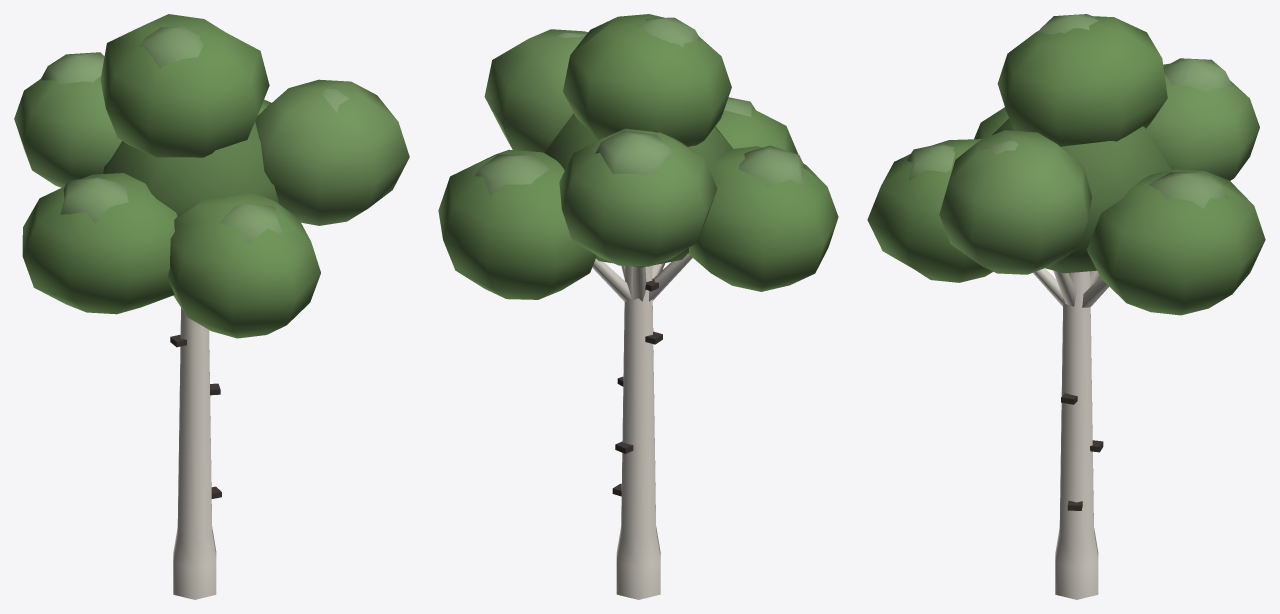
Rendered from birch.glb.
3 views of the same model, side by side, from view 1: azimuth 30°, elevation 25°; view 2: azimuth 150°, elevation 25°; view 3: azimuth 270°, elevation 25° (orthographic).
Parts seen in each view (by area): view 1: body; view 2: body; view 3: body.
Part boxes in pixels (bbox=[...]): body: bbox=[14, 14, 409, 599]; body: bbox=[438, 14, 838, 599]; body: bbox=[867, 14, 1265, 599].
Size of the model in its own units: 3.43 by 5.34 by 3.42.
